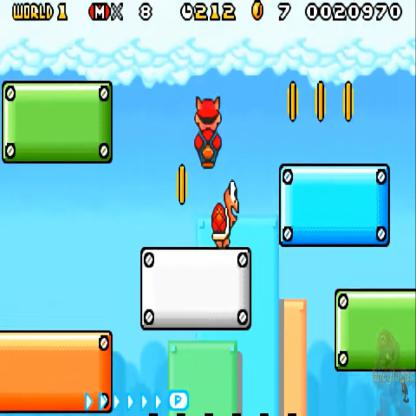Mario: (192, 93, 226, 176)
koopa: (207, 179, 240, 252)
moneda: (340, 72, 358, 126), (171, 158, 188, 206), (286, 79, 301, 127), (316, 73, 326, 131)
